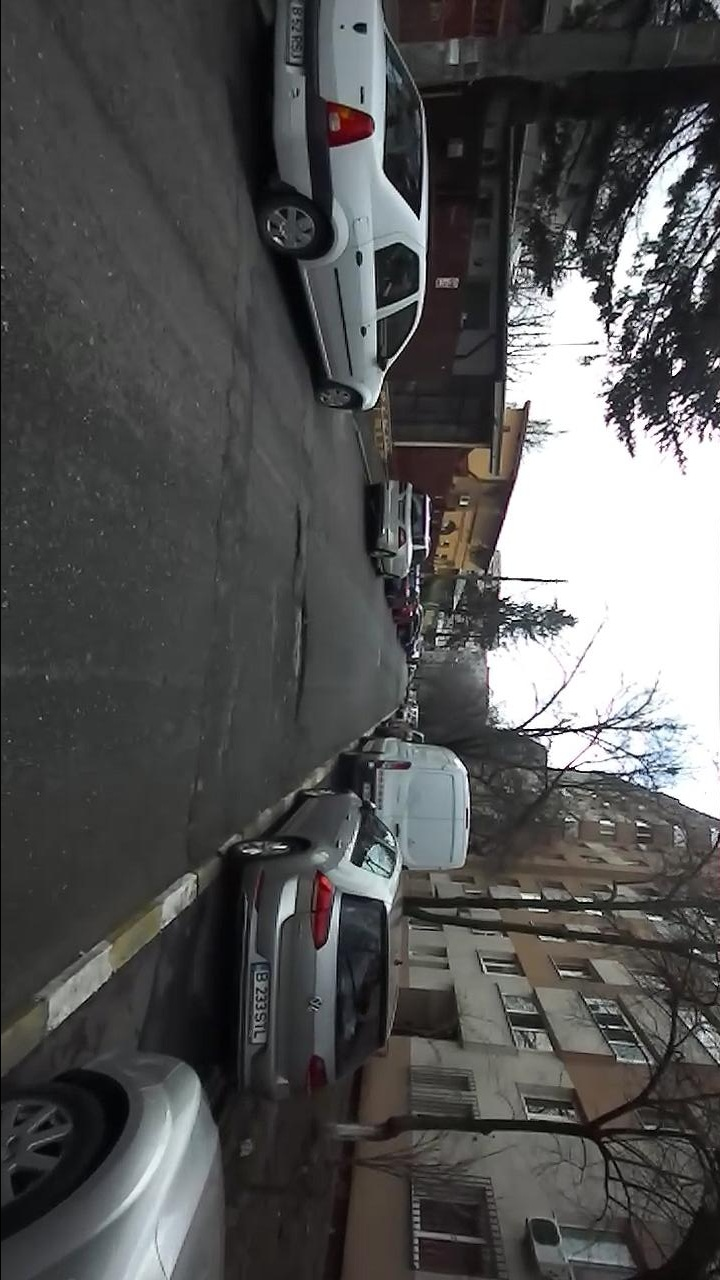pothole: (287, 587, 310, 724), (181, 767, 203, 856), (290, 499, 305, 572)
